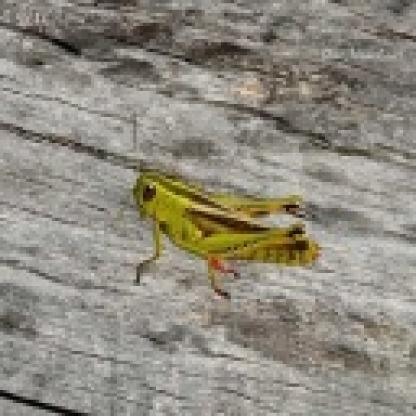grasshopper: (117, 165, 322, 294)
